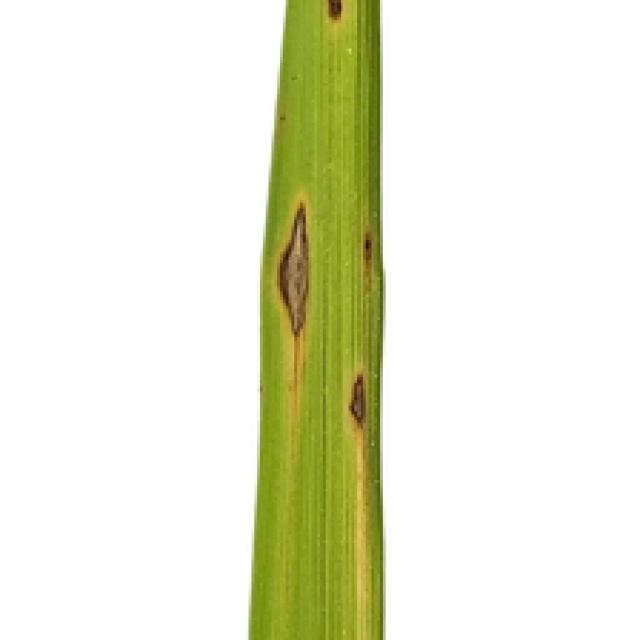Rice___Rice_Blast: (250, 0, 388, 637)
